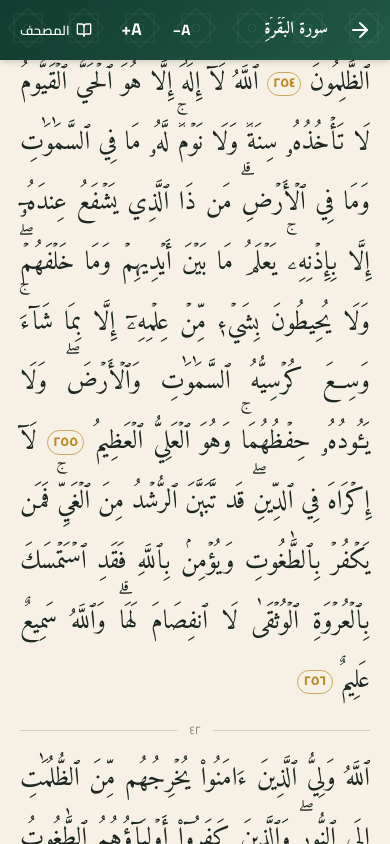
Test case: /mushaf/read — real text, one surah at a time › 2:255 shows the source text and, when tapped, its own Al-Muyassar tafsir
(page scrolled)
Click the 5th button at [139, 83], box [20, 60, 370, 464]
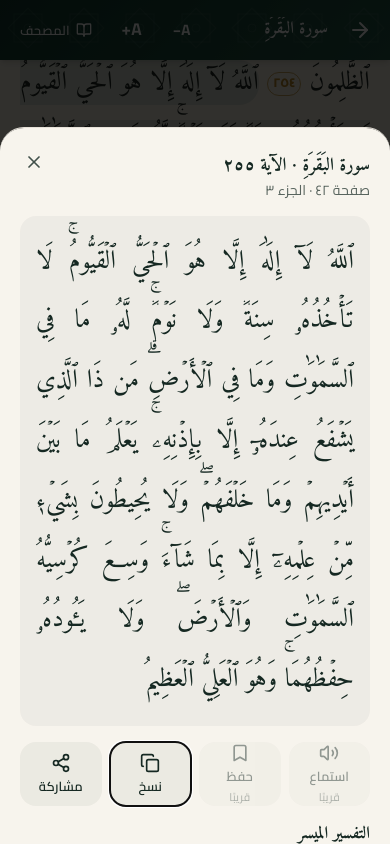
Check: the element with test id "ayah-tafsir" shows "التفسير الميسر", box [298, 819, 370, 843]
